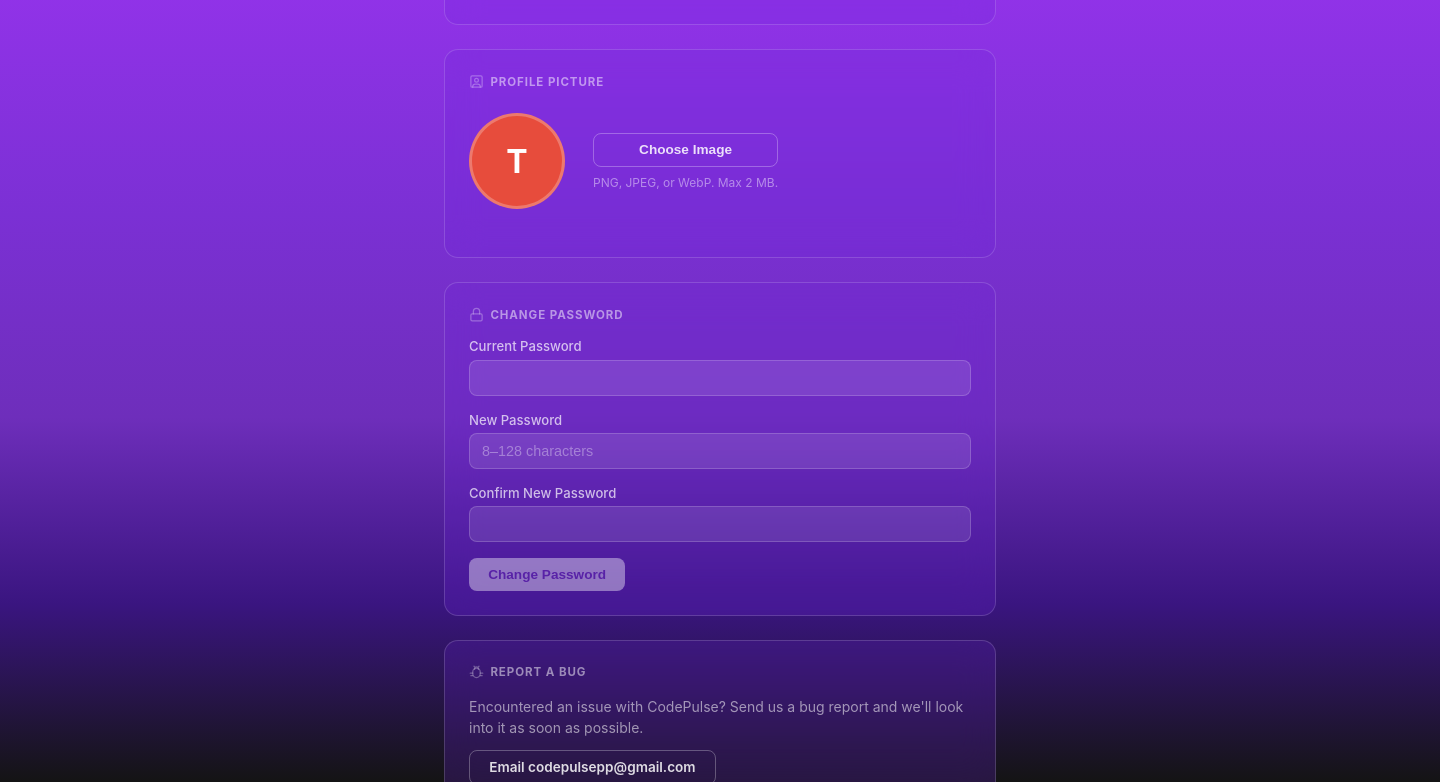
Test: AccountPage › shows error when new password is too short
The width and height of the screenshot is (1440, 782).
(page scrolled)
Type "oldpass123" into the password field labelled "Current Password" at (720, 378), box [469, 360, 971, 396]
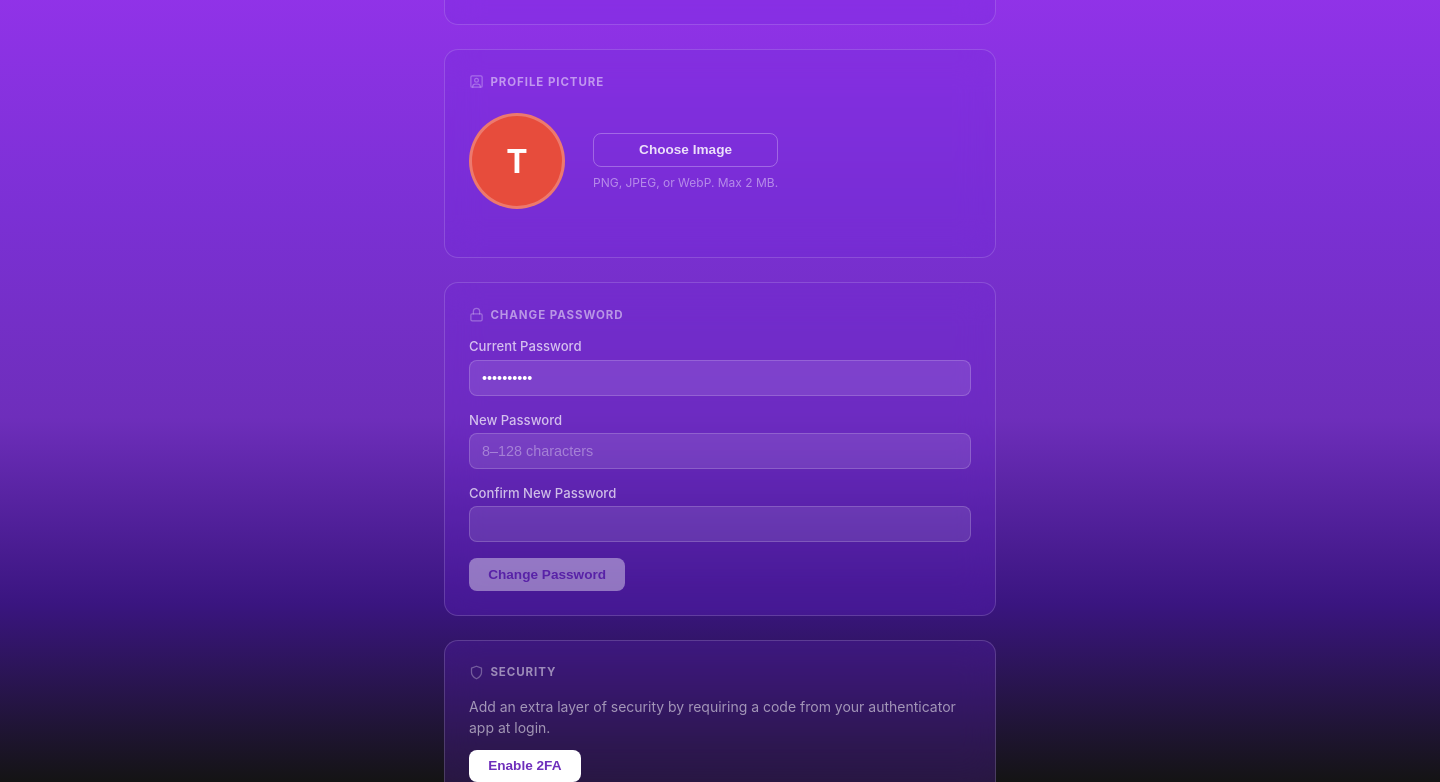
Type "short" into the password field labelled "New Password" at (720, 451), box [469, 433, 971, 469]
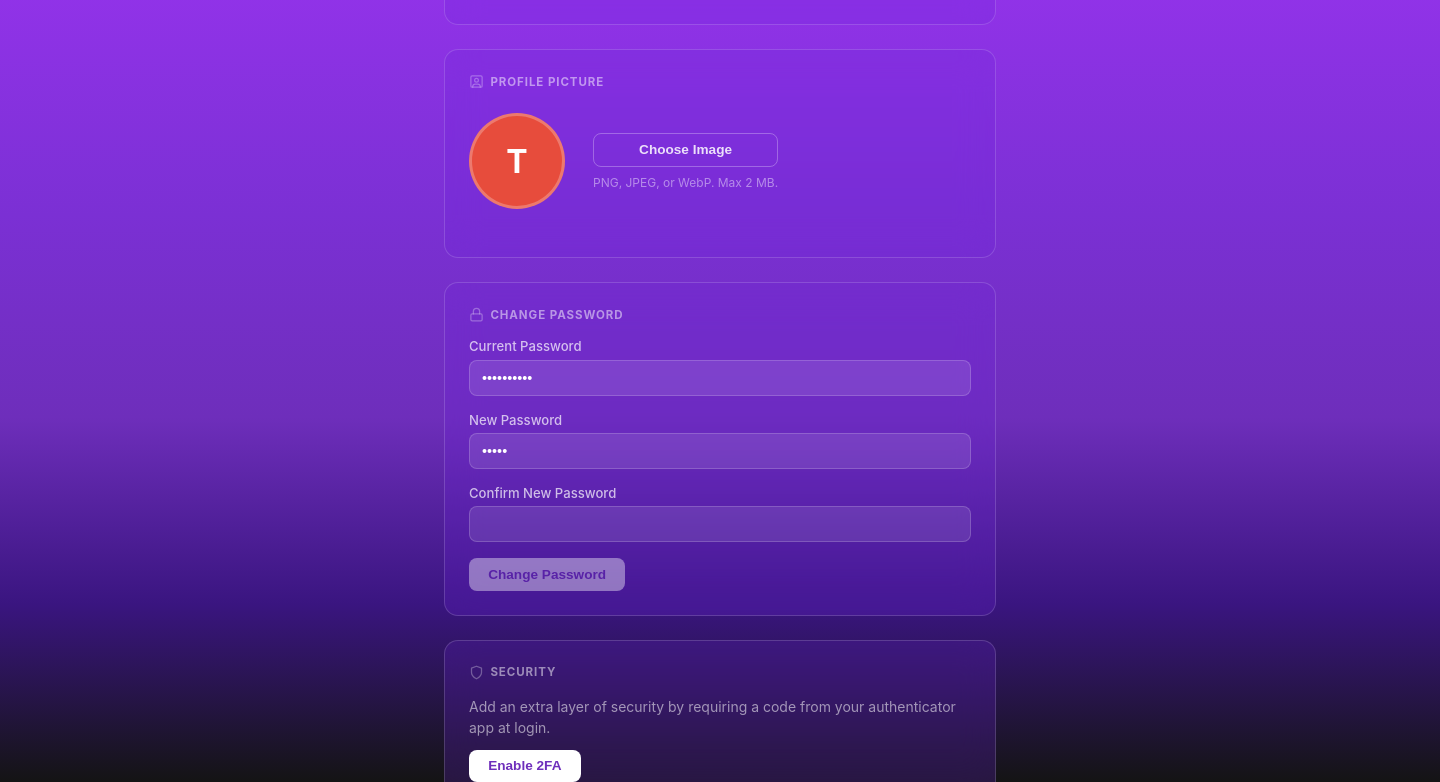
Type "short" into the password field labelled "Confirm New Password" at (720, 524), box [469, 506, 971, 542]
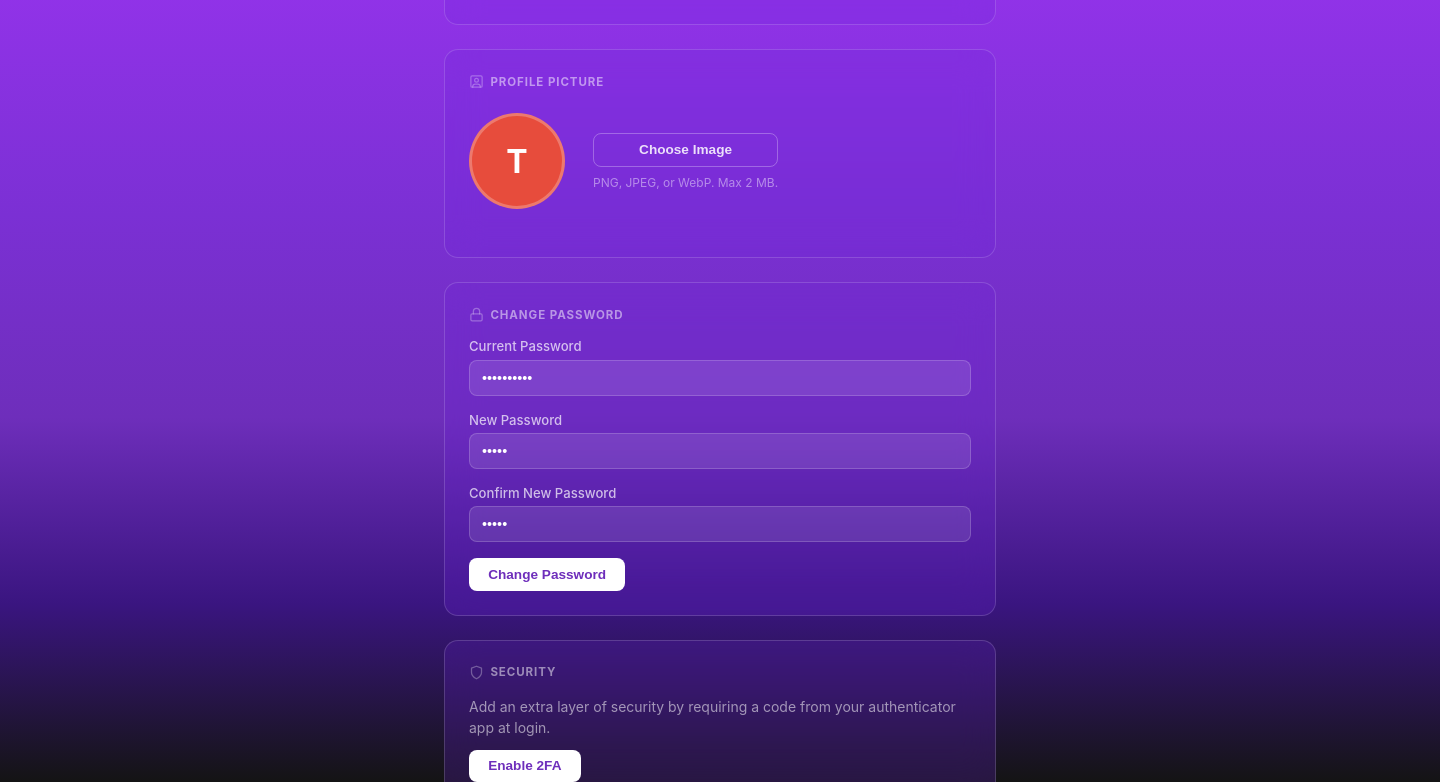
Click the button "Change Password" at (547, 574), box [469, 558, 625, 590]
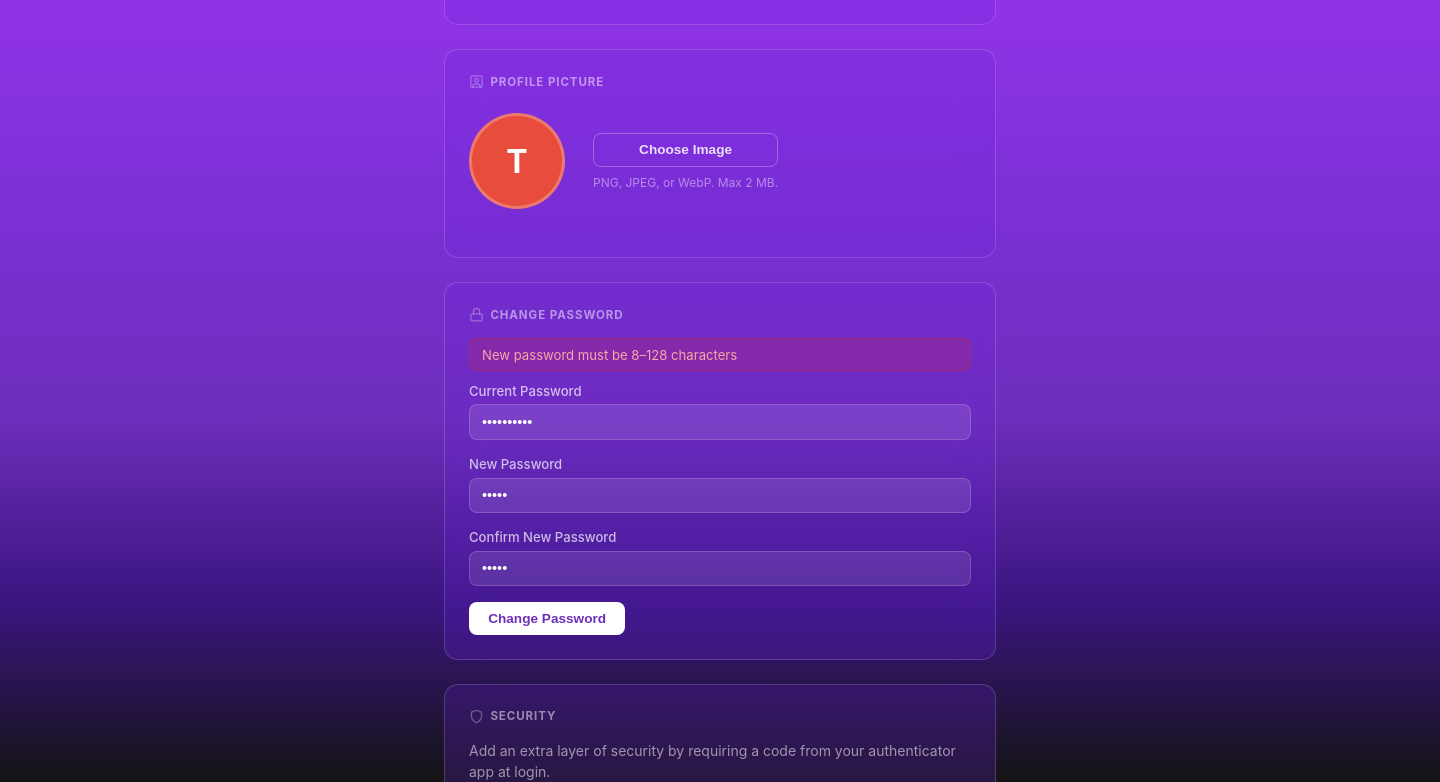
Check: the text "New password must be 8–128 characters" is shown, box [469, 338, 971, 371]
